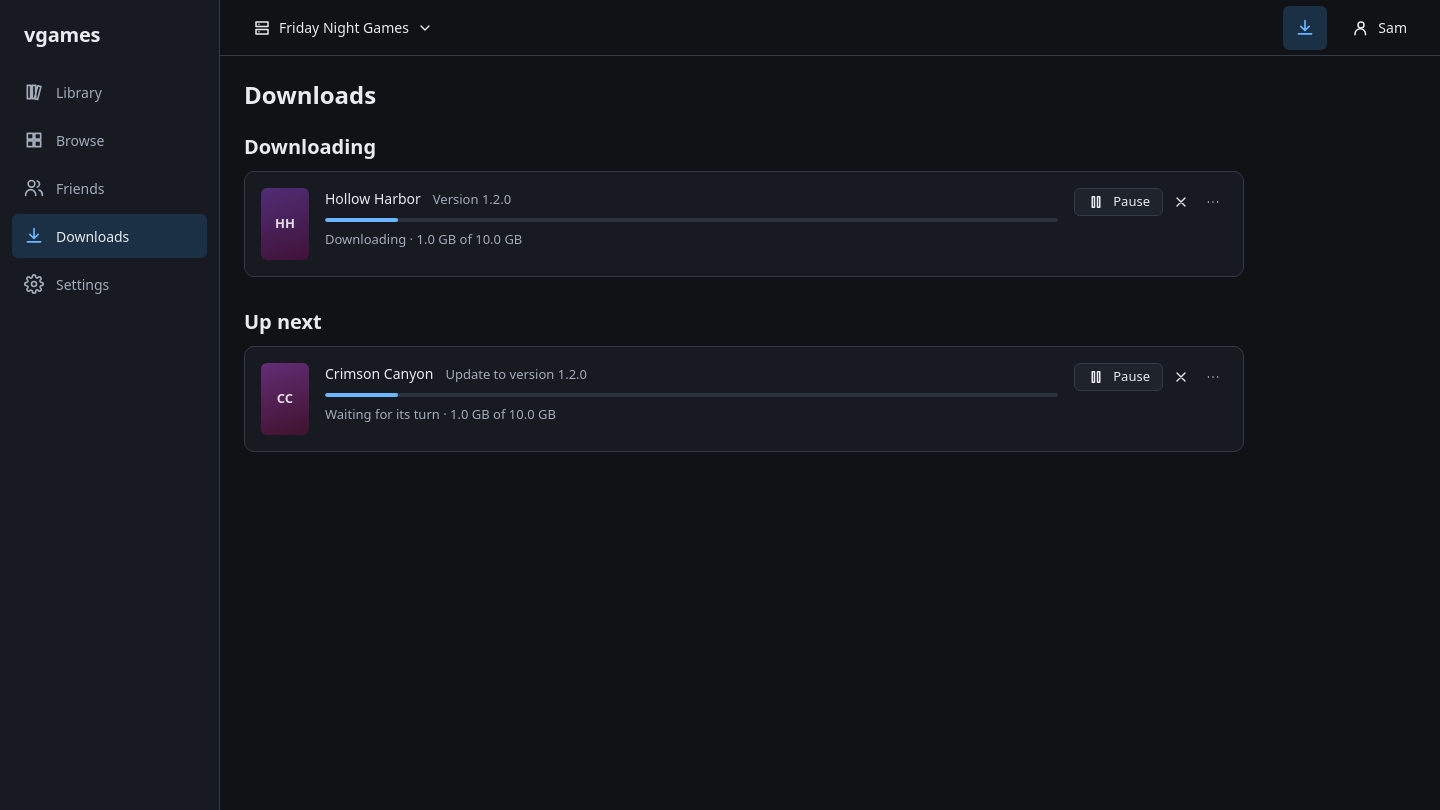
Test: downloads › cancel › can delete them instead; an update keeps the installed version
The image size is (1440, 810).
Click the button named "Cancel Crimson Canyon": x=1181, y=377 top-left (1167, 363), bottom-right (1195, 391)
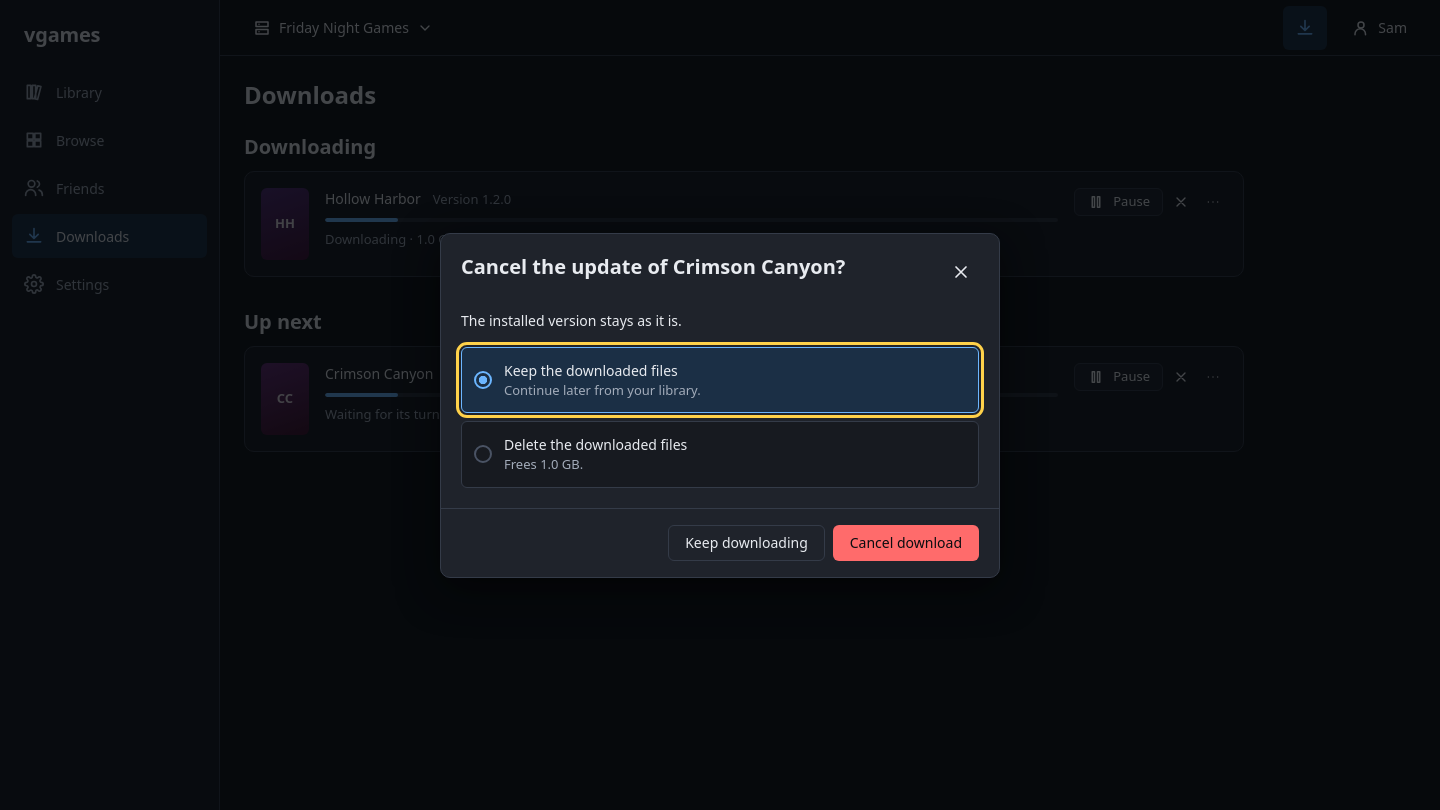
Now the dialog "Cancel the update of Crimson Canyon?" shows "The installed version stays as it is.", box top-left (461, 310), bottom-right (682, 330)
Click the radio button labelled "Delete the downloaded files Frees 1.0 GB.": x=596, y=444 top-left (461, 421), bottom-right (979, 488)
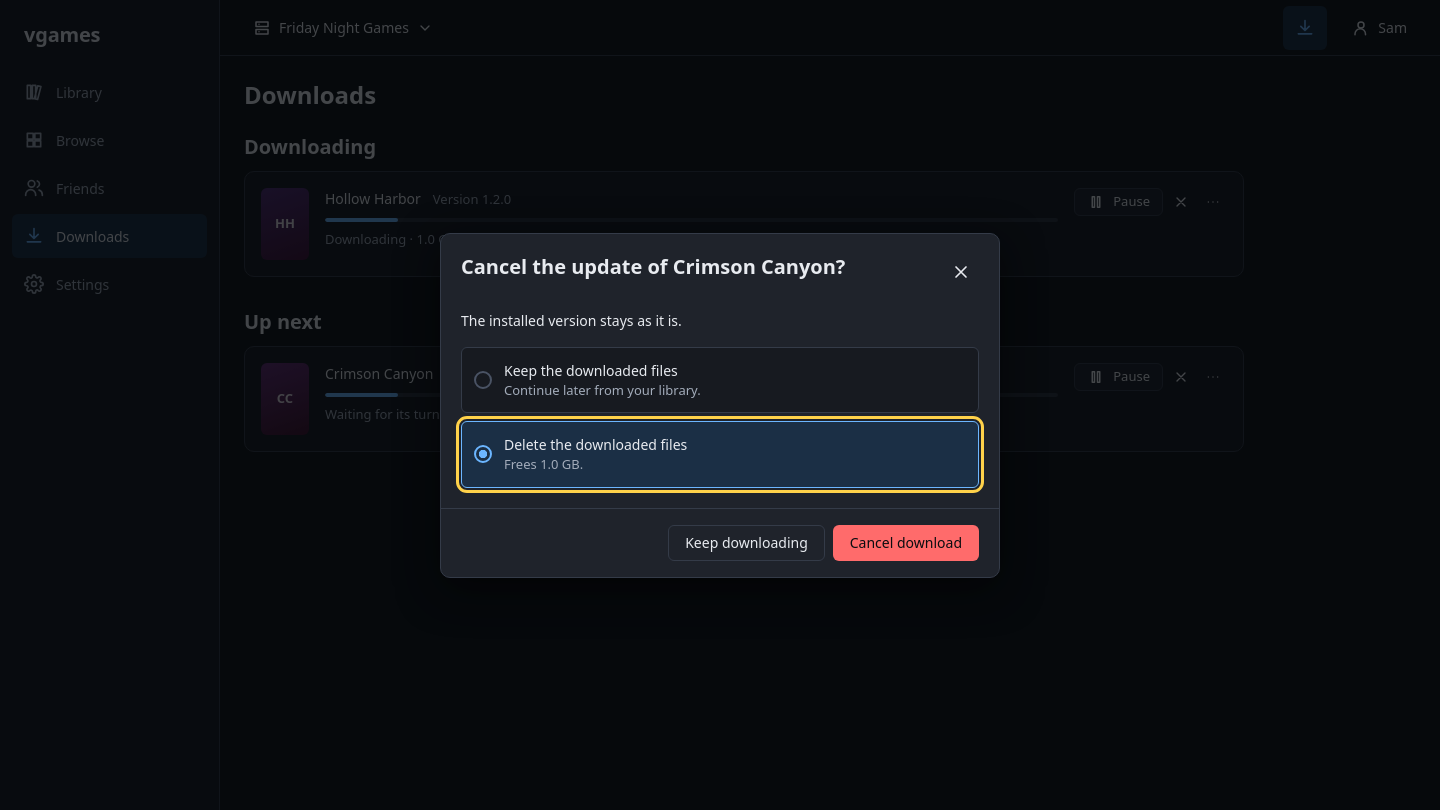
Click the button "Cancel download": x=906, y=542 top-left (833, 524), bottom-right (979, 560)
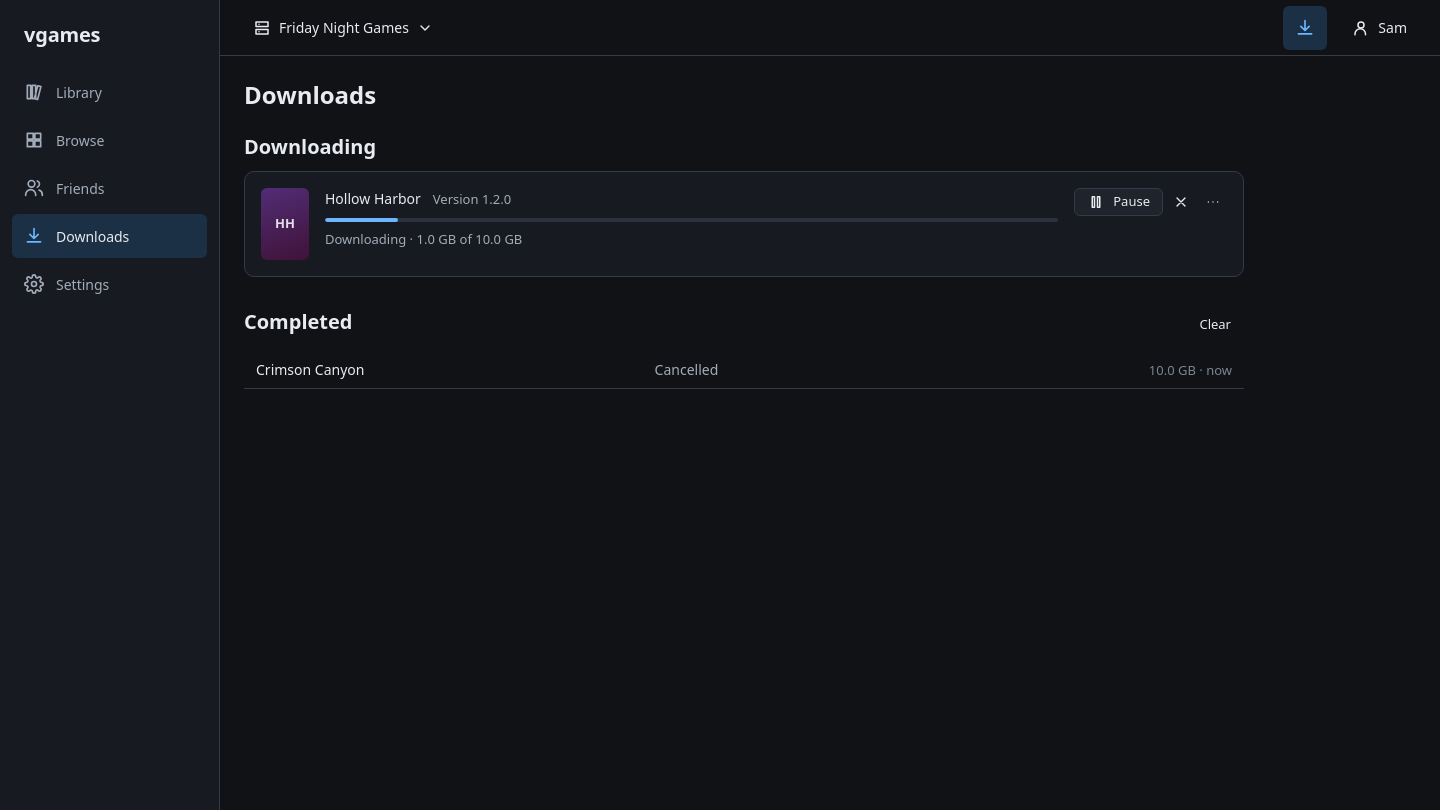
Now the text "Cancelled" is shown, box top-left (655, 360), bottom-right (718, 379)
